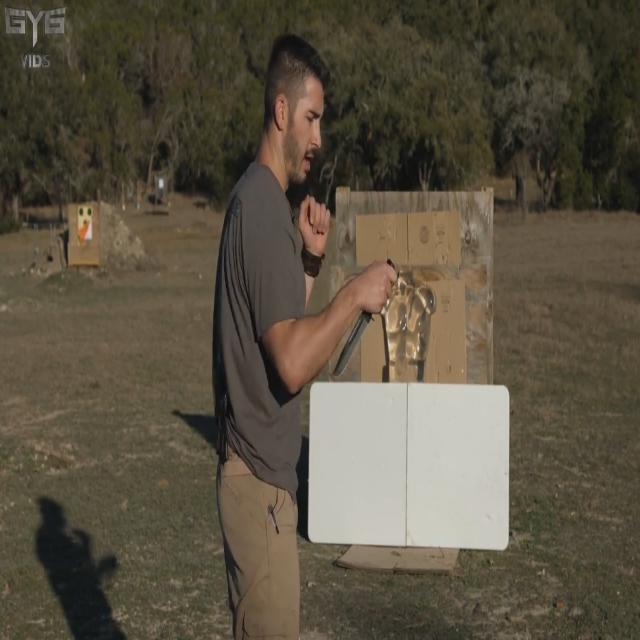knife: (329, 318, 373, 385)
